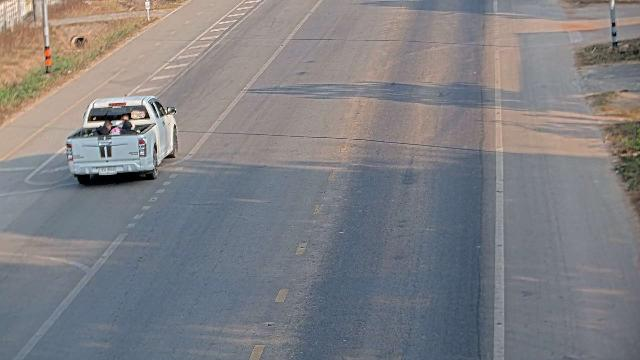pickup-truck: (64, 94, 179, 185)
